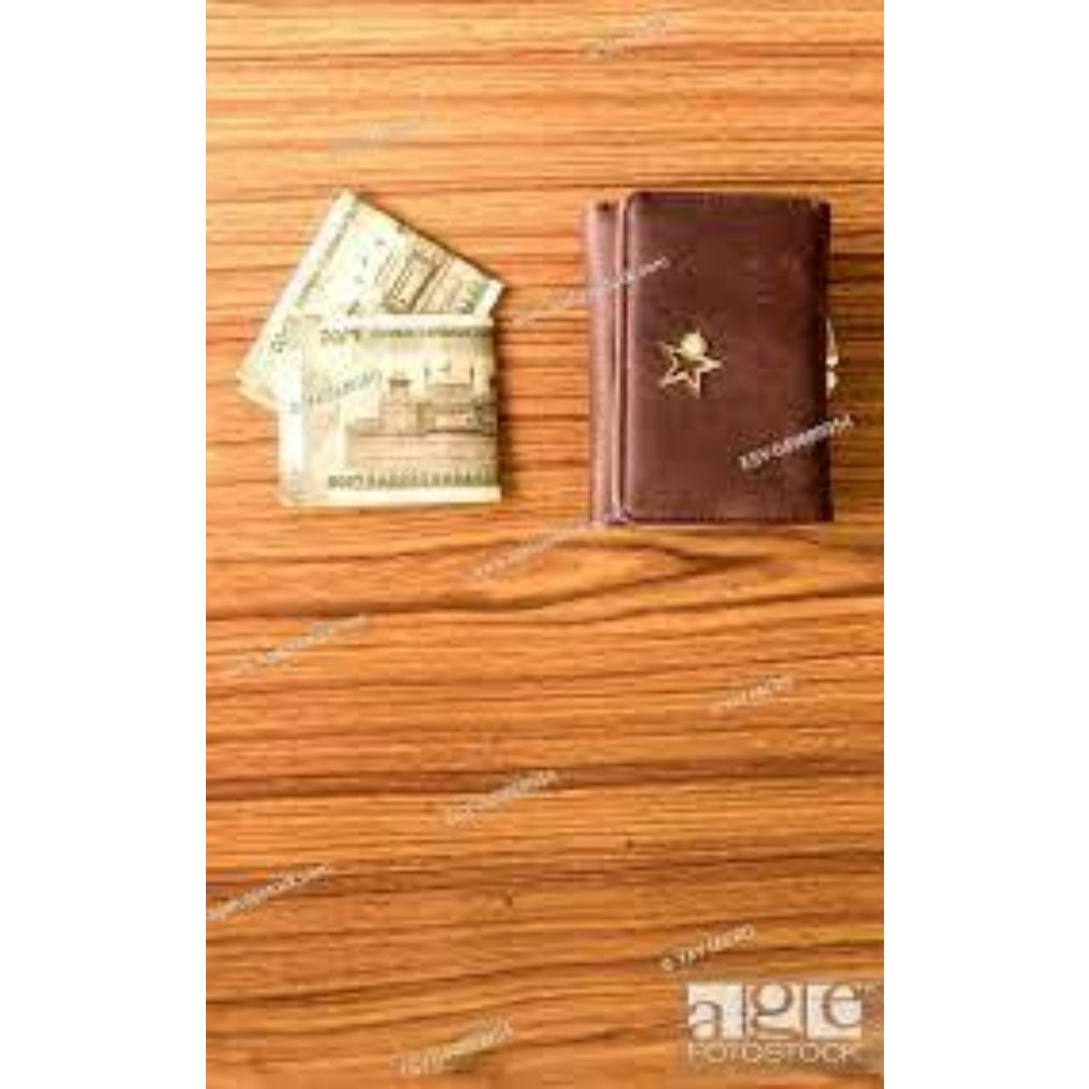wallet: (570, 175, 880, 550)
